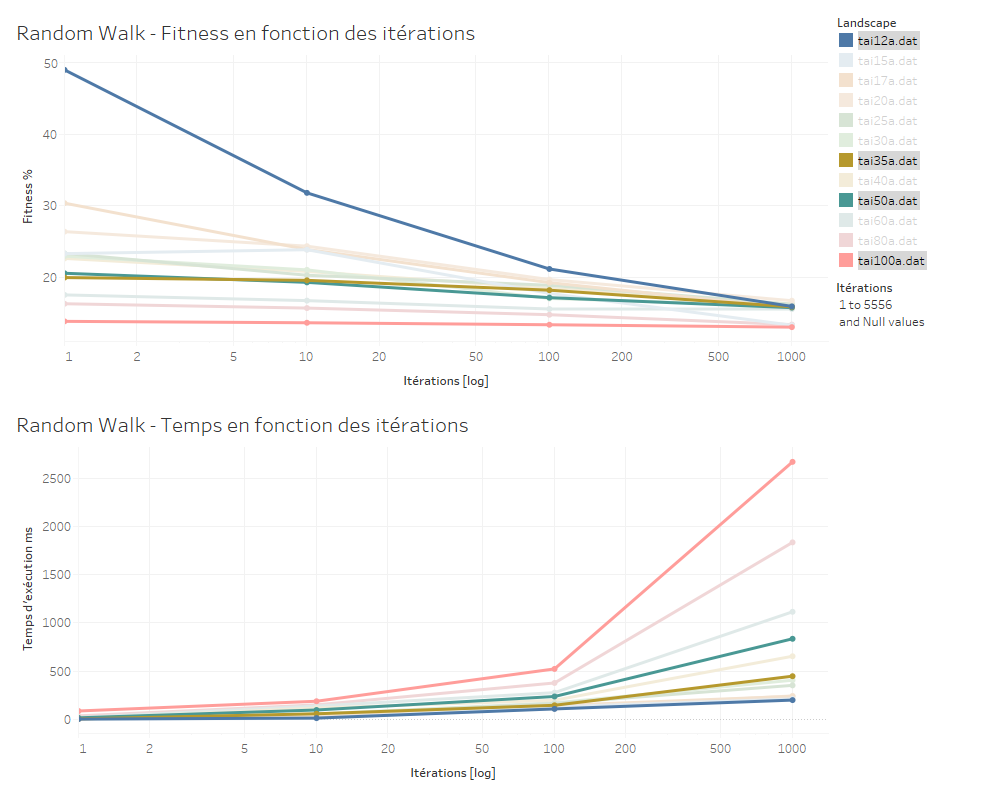

What the dashboard file says about the page in this screenshot:
{"tool":"tableau","page":{"name":"Random Walk","canvas":[1000,800],"ordinal":1},"visuals":[{"type":"worksheet","title":"Random Walk - Fitness","mark":"Line","rows":["Calculation_1762314897165193217"],"cols":["F5"],"box":[8,8,824,392]},{"type":"legend","title":"Random Walk - Fitness","param":"[federated.1c0j8d01x8bcdy1817doc1lwf2sg].[none:F1:nk]","box":[832,8,160,266]},{"type":"filter","title":"Random Walk - Temps","param":"[federated.1c0j8d01x8bcdy1817doc1lwf2sg].[none:F5:qk]","box":[832,274,160,69]},{"type":"worksheet","title":"Random Walk - Temps","mark":"Line","rows":["Calculation_1762314897165012992"],"cols":["F5"],"box":[8,400,824,392]}]}

Visuals, with their boxes in screenshot pixels (x1, y1, x2, y2), scaled from the page's 1000x800 canvas onto the 1000x800 screenshot:
"Random Walk - Fitness" worksheet (Line marks): [left=8, top=8, right=832, bottom=400]
"Random Walk - Fitness" legend: [left=832, top=8, right=992, bottom=274]
"Random Walk - Temps" filter: [left=832, top=274, right=992, bottom=343]
"Random Walk - Temps" worksheet (Line marks): [left=8, top=400, right=832, bottom=792]
